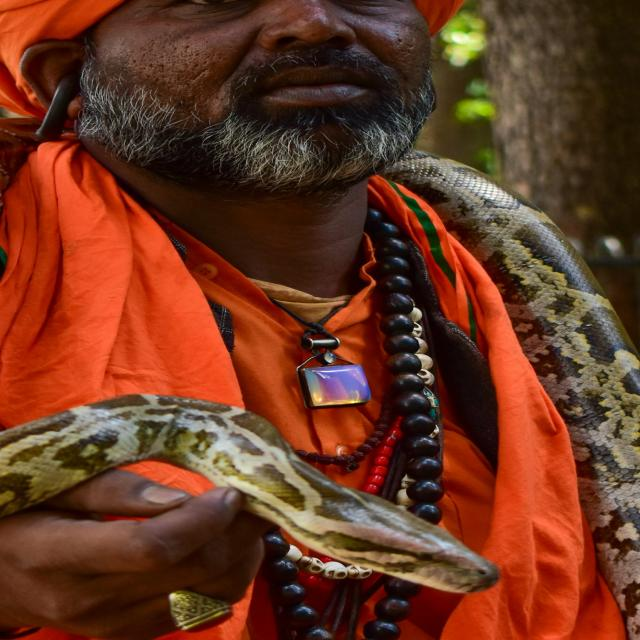Snake: (0, 101, 640, 640)
